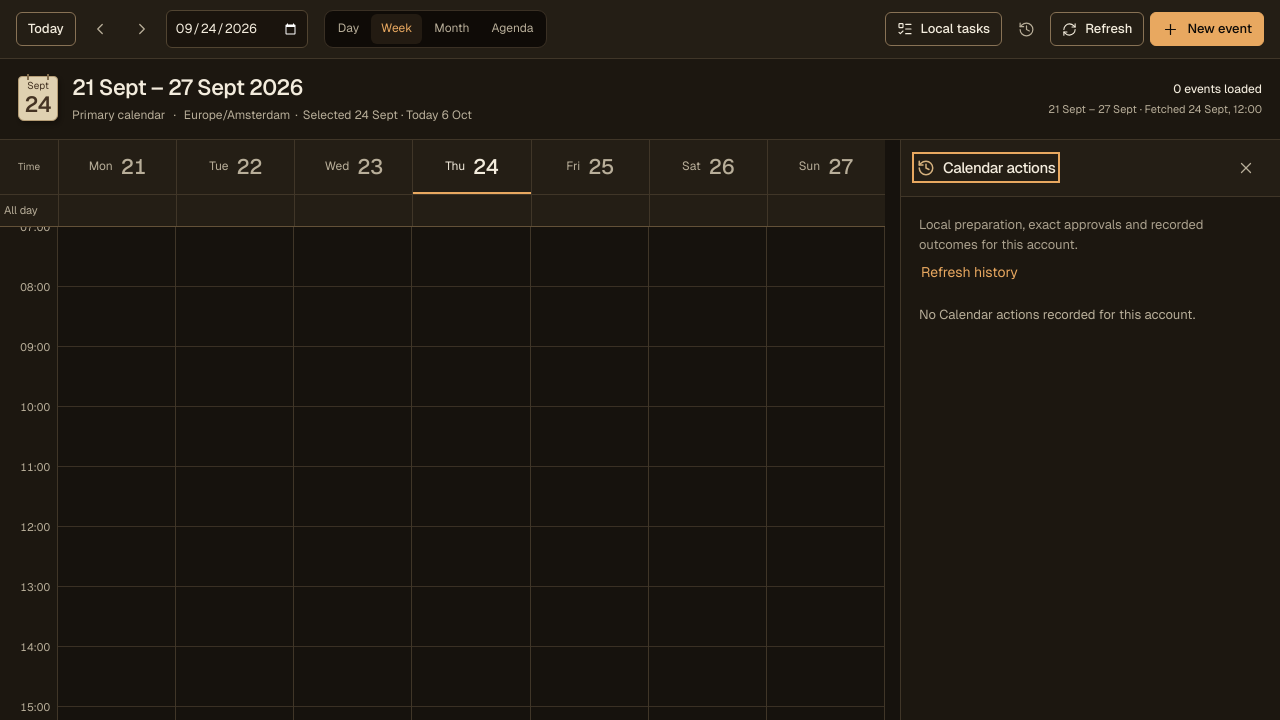
Test: opens and cancels blank event preparation without a native write, preserving times across presentation changes
(page scrolled)
expect the text "0 events loaded" is shown: met, box [1173,81,1262,97]
Click the button "New event" at (1207, 29), box [1150,12,1264,46]
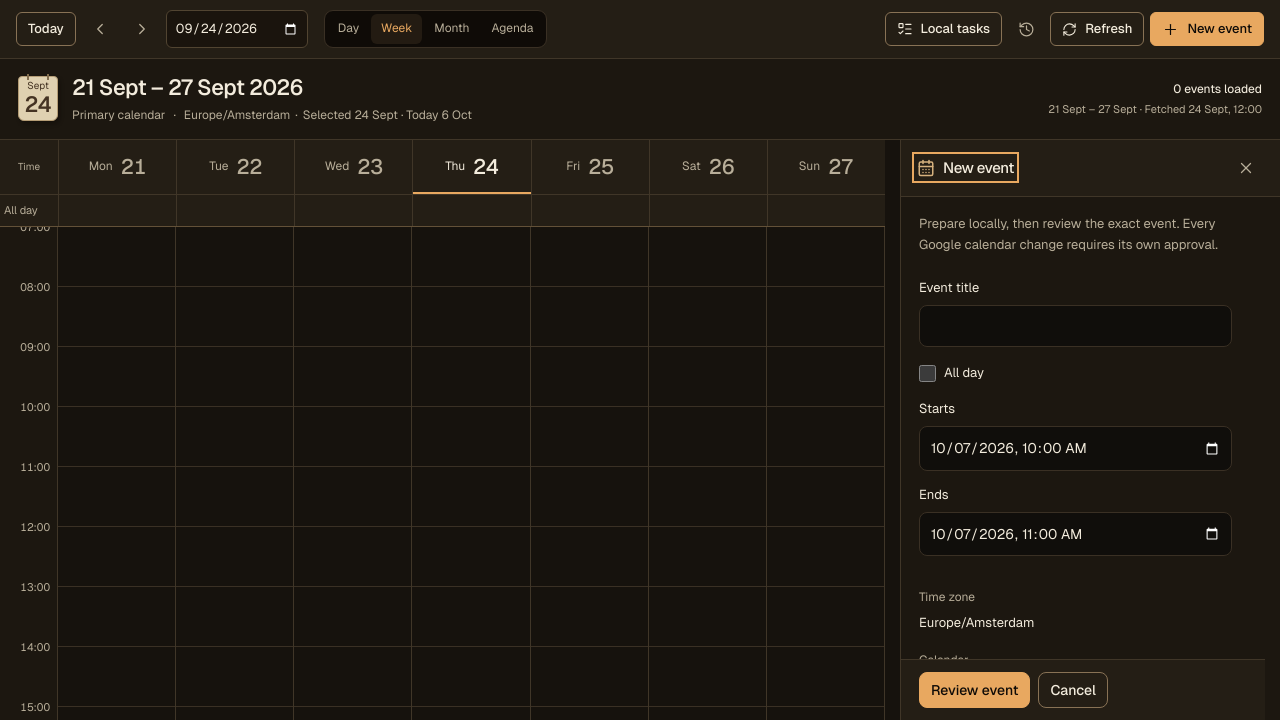
Click the checkbox labelled "All day" at (928, 373), box [919,365,936,382]
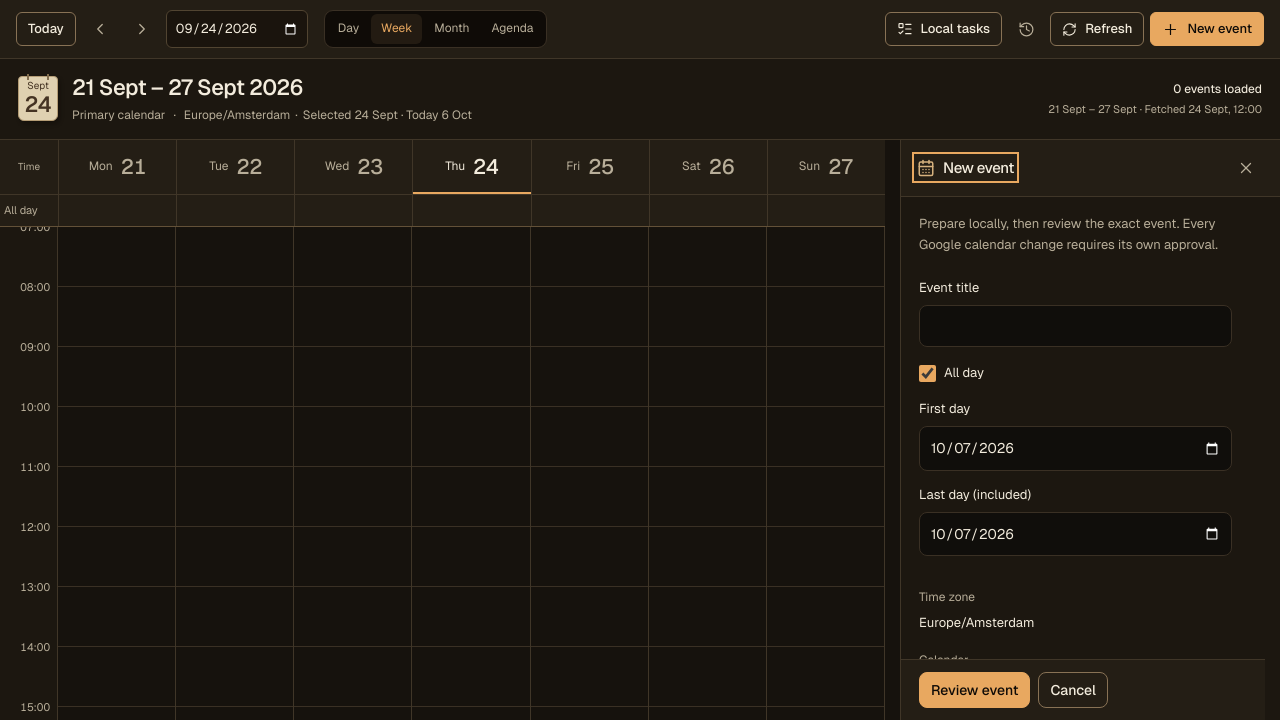
Click the checkbox labelled "All day" at (928, 373), box [919,365,936,382]
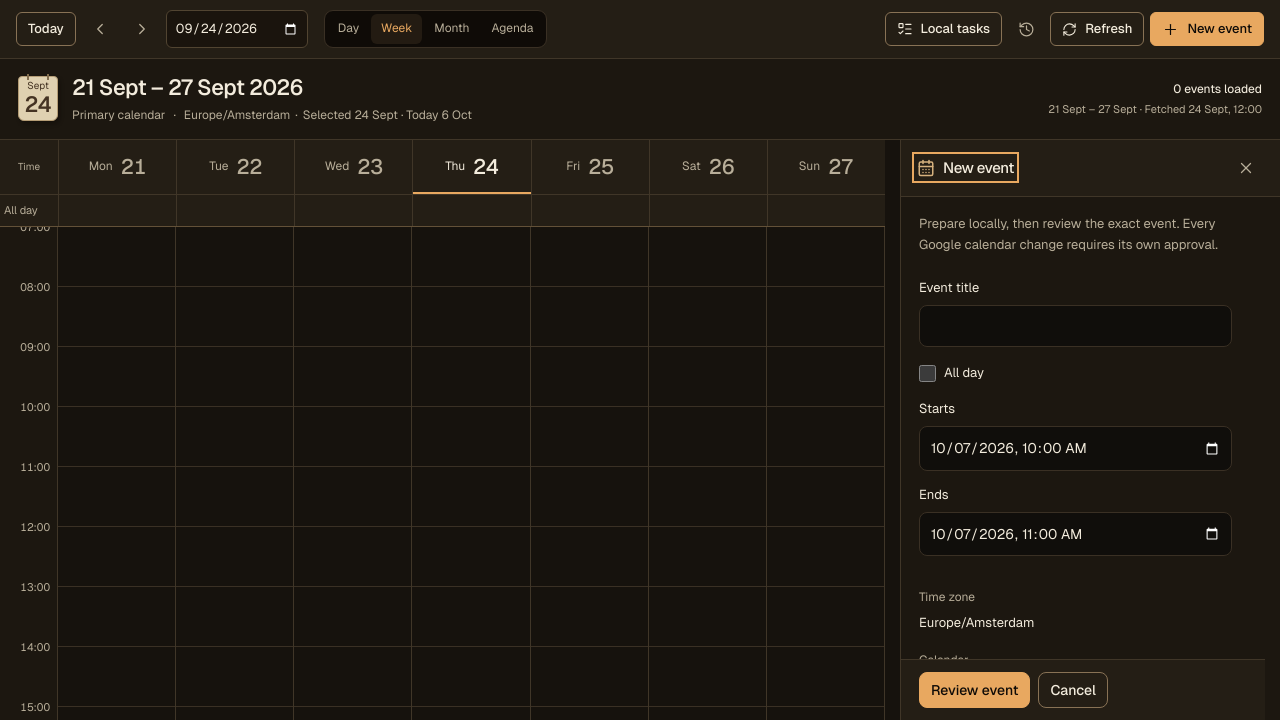
Click the button "Month" at (452, 29), box [424,14,480,44]
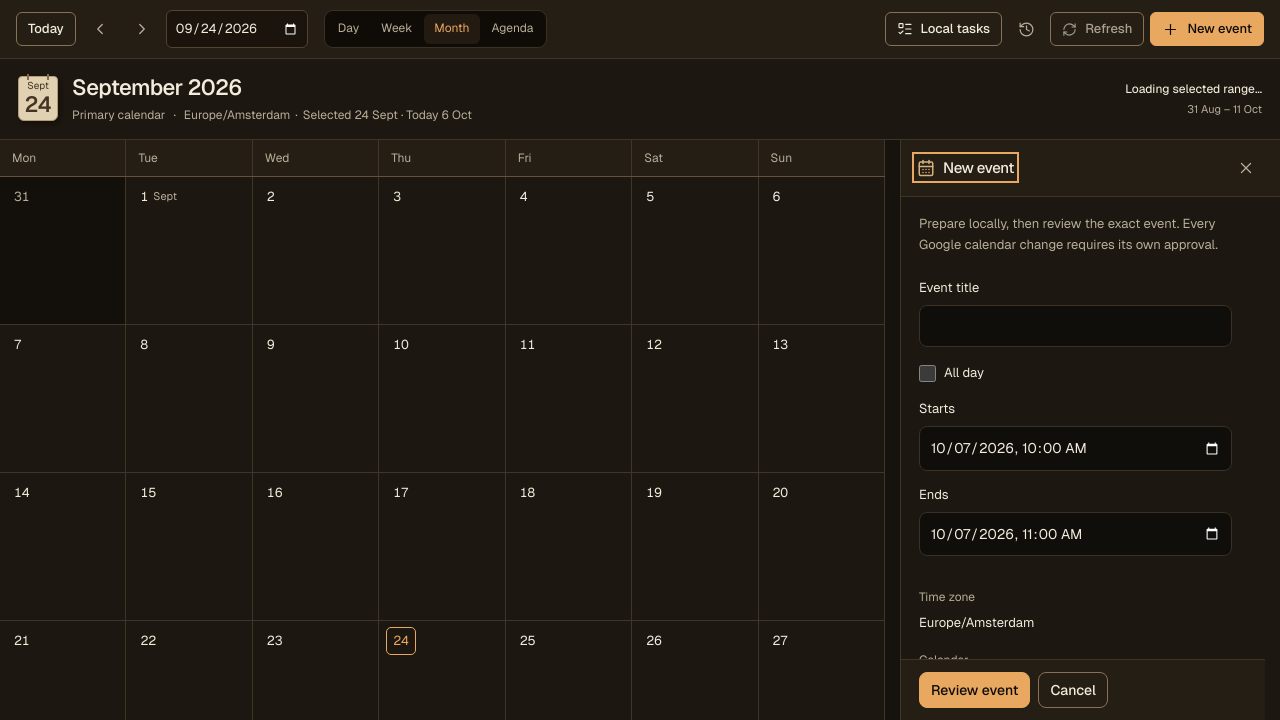
Click the button "Cancel" at (1073, 690), box [1038,672,1108,708]
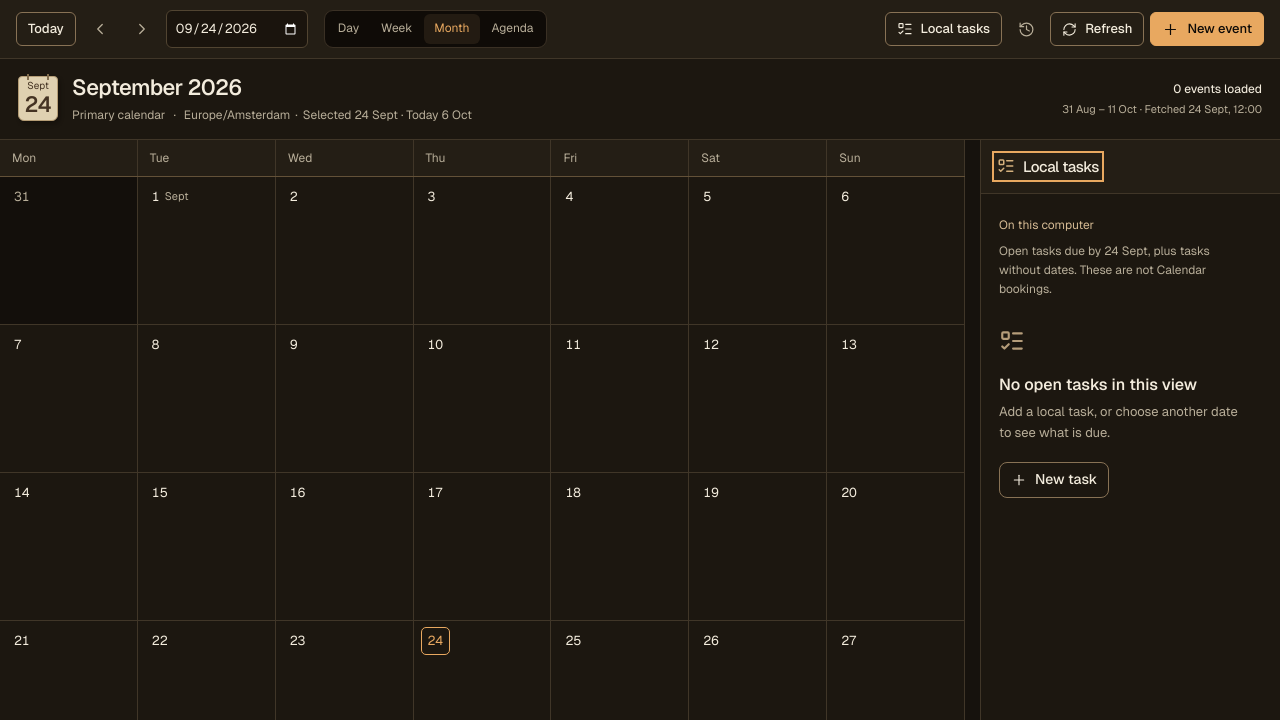
expect the label "Event title" is gone: met
